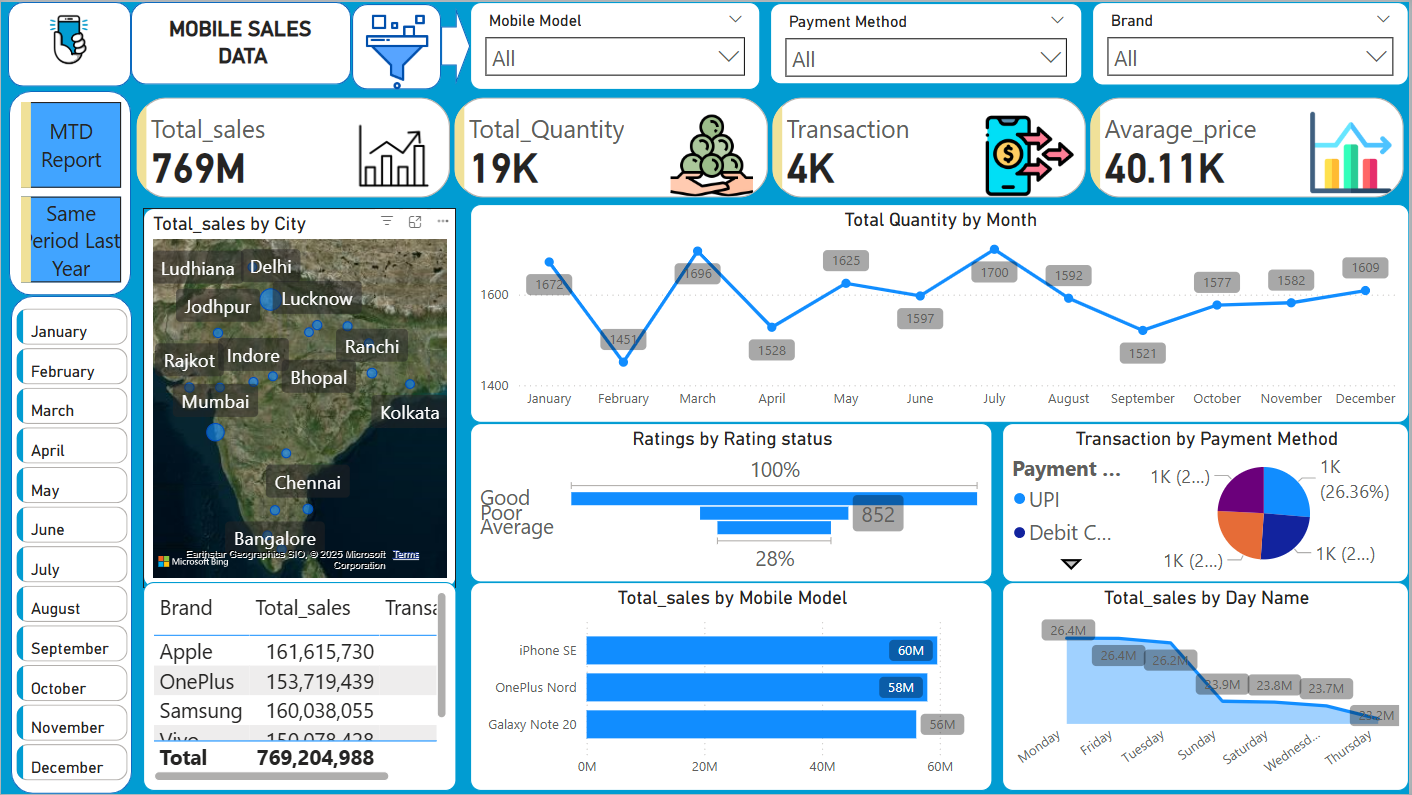

Layout of this report page (visuals, bound fields, positions):
{"tool":"powerbi","page":{"name":"Dashboard","canvas":[1280,720],"ordinal":0},"visuals":[{"type":"shape","box":[6.7,0,111.7,76.7],"z":0},{"type":"image","box":[22.5,0,77.5,67.5],"z":1000},{"type":"shape","box":[7.5,81.2,111.2,186.2],"z":2000},{"type":"shape","box":[8.8,267.5,110,452.5],"z":3000},{"type":"advancedSlicerVisual","fields":{"Values":["Custom_calender.Date.Variation.Date Hierarchy.Month"]},"box":[8.8,273.8,111.2,446.2],"z":4000},{"type":"cardVisual","fields":{"Data":["Mobile_sales_data.Total_sales","Mobile_sales_data.Total_Quantity","Mobile_sales_data.Transaction","Mobile_sales_data.Avarage_price"]},"box":[117.8,82.2,1162.2,101.1],"z":5000},{"type":"slicer","fields":{"Values":["Mobile_sales_data.Mobile Model"]},"box":[426.7,0,264.4,80],"z":6000},{"type":"slicer","fields":{"Values":["Mobile_sales_data.Payment Method"]},"box":[698.9,1.1,284.4,74.4],"z":7000},{"type":"slicer","fields":{"Values":["Mobile_sales_data.Brand"]},"box":[992.2,0,287.8,75.6],"z":8000},{"type":"shape","box":[318.9,2.2,81.1,77.8],"z":9000},{"type":"image","box":[278.9,5.6,162.2,80],"z":10000},{"type":"shape","box":[400,4.4,26.7,71.1],"z":11000},{"type":"shape","box":[118.3,0,200,75],"z":12000},{"type":"textbox","box":[128.9,5.6,176.7,62.2],"z":13000},{"type":"map","fields":{"Category":["Mobile_sales_data.City"],"Size":["Mobile_sales_data.Total_sales"]},"box":[128.8,187.5,285,345],"z":14000},{"type":"lineChart","title":"Total Quantity by Month","fields":{"Category":["Custom_calender.Date.Variation.Date Hierarchy.Month"],"Y":["Mobile_sales_data.Total_Quantity"]},"box":[426.2,183.8,853.8,198.8],"z":15000},{"type":"funnel","title":"Ratings  by Rating status","fields":{"Y":["CountNonNull(Mobile_sales_data.Rating status)"],"Category":["Mobile_sales_data.Rating status"]},"box":[426.2,382.5,475,145],"z":16000},{"type":"pieChart","fields":{"Y":["Mobile_sales_data.Transaction"],"Category":["Mobile_sales_data.Payment Method"]},"box":[910,382.5,370,145],"z":17000},{"type":"clusteredBarChart","fields":{"Y":["Mobile_sales_data.Total_sales"],"Category":["Mobile_sales_data.Mobile Model"]},"box":[426.2,527.5,475,190],"z":18000},{"type":"areaChart","fields":{"Y":["Mobile_sales_data.Total_sales"],"Category":["Custom_calender.Day Name"]},"box":[910,527.5,370,190],"z":19000},{"type":"tableEx","fields":{"Values":["Mobile_sales_data.Brand","Mobile_sales_data.Total_sales","Mobile_sales_data.Transaction"]},"box":[128.8,527.5,285,190],"z":20000},{"type":"pageNavigator","box":[17.8,91.1,91.1,165.6],"z":21000}]}

Visuals, with their boxes in screenshot pixels (x1, y1, x2, y2), scaled from the page's 1280x720 canvas onto the 1412x795 screenshot:
shape: detection(7, 0, 131, 85)
image: detection(25, 0, 110, 75)
shape: detection(8, 90, 131, 295)
shape: detection(10, 295, 131, 794)
advancedSlicerVisual - Custom_calender.Date.Variation.Date Hierarchy.Month: detection(10, 302, 132, 794)
cardVisual - Mobile_sales_data.Total_sales x Mobile_sales_data.Total_Quantity: detection(130, 91, 1411, 202)
slicer - Mobile_sales_data.Mobile Model: detection(471, 0, 762, 88)
slicer - Mobile_sales_data.Payment Method: detection(771, 1, 1085, 83)
slicer - Mobile_sales_data.Brand: detection(1095, 0, 1411, 83)
shape: detection(352, 2, 441, 88)
image: detection(308, 6, 487, 95)
shape: detection(441, 5, 471, 83)
shape: detection(130, 0, 351, 83)
textbox: detection(142, 6, 337, 75)
map - Mobile_sales_data.City x Mobile_sales_data.Total_sales: detection(142, 207, 456, 588)
"Total Quantity by Month" lineChart: detection(470, 203, 1411, 422)
"Ratings  by Rating status" funnel: detection(470, 422, 994, 582)
pieChart - Mobile_sales_data.Transaction x Mobile_sales_data.Payment Method: detection(1004, 422, 1411, 582)
clusteredBarChart - Mobile_sales_data.Total_sales x Mobile_sales_data.Mobile Model: detection(470, 582, 994, 792)
areaChart - Mobile_sales_data.Total_sales x Custom_calender.Day Name: detection(1004, 582, 1411, 792)
tableEx - Mobile_sales_data.Brand x Mobile_sales_data.Total_sales: detection(142, 582, 456, 792)
pageNavigator: detection(20, 101, 120, 283)
